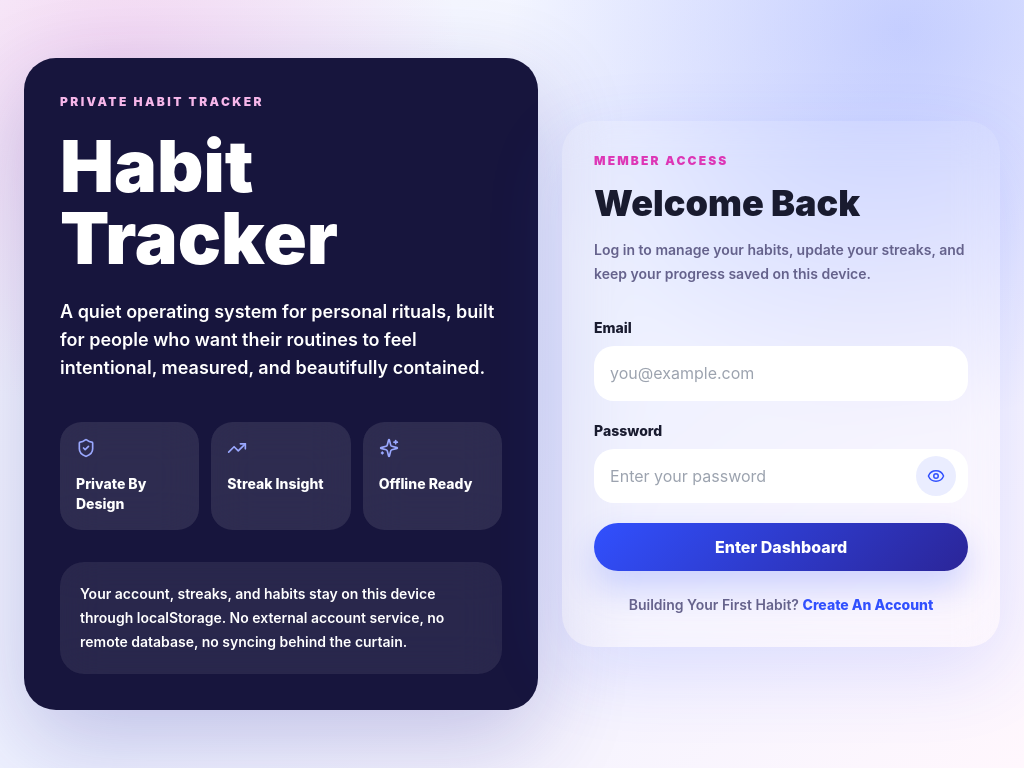
Test: auth flow › shows an error for invalid login credentials
The image size is (1024, 768).
In the field with test id "auth-login-email": (781, 373) x1=594 y1=346 x2=968 y2=400, type "person@example.com"
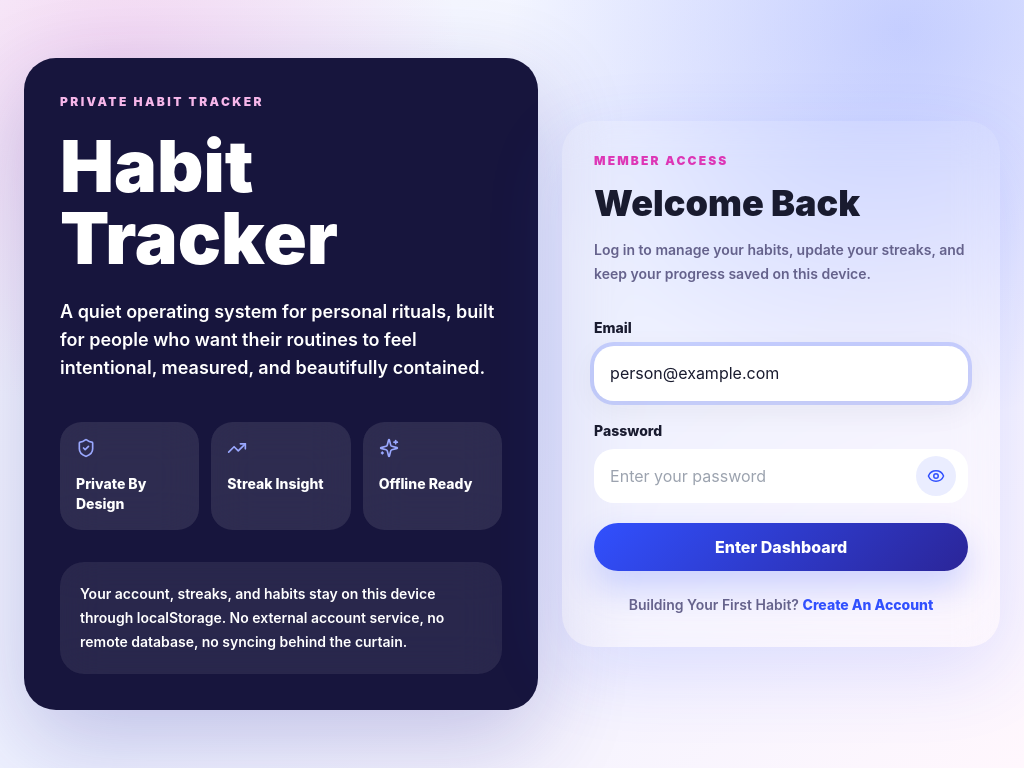
In the password field with test id "auth-login-password": (781, 476) x1=594 y1=448 x2=968 y2=503, type "wrong"
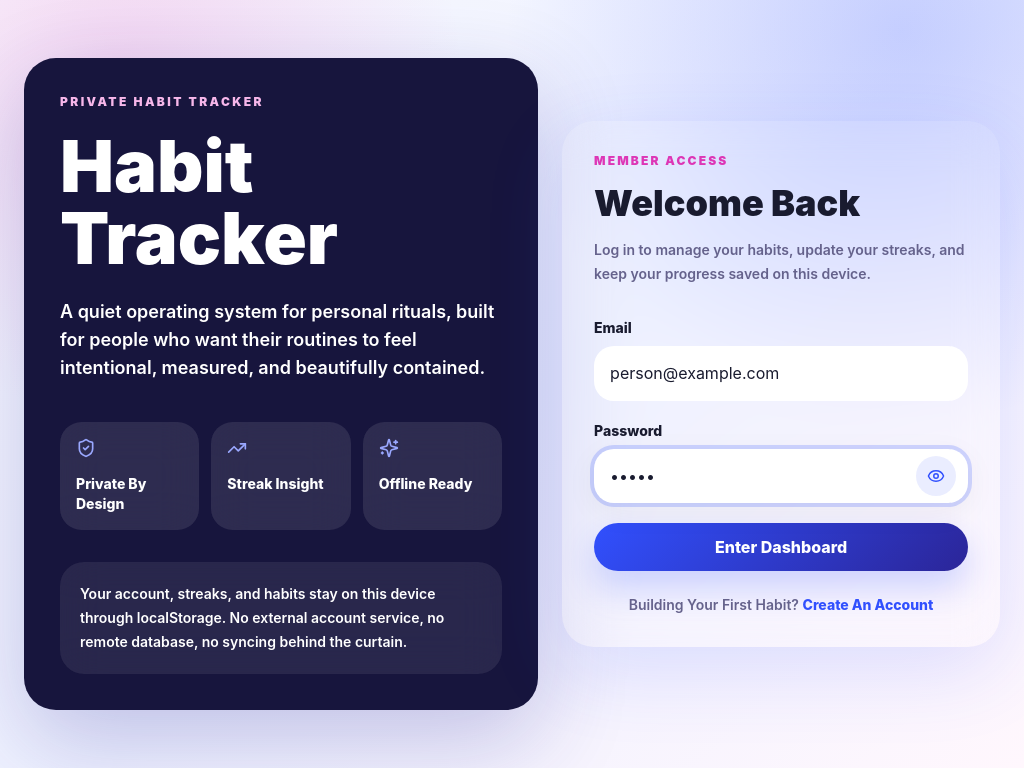
Click the button with test id "auth-login-submit": (781, 547) x1=594 y1=523 x2=968 y2=571
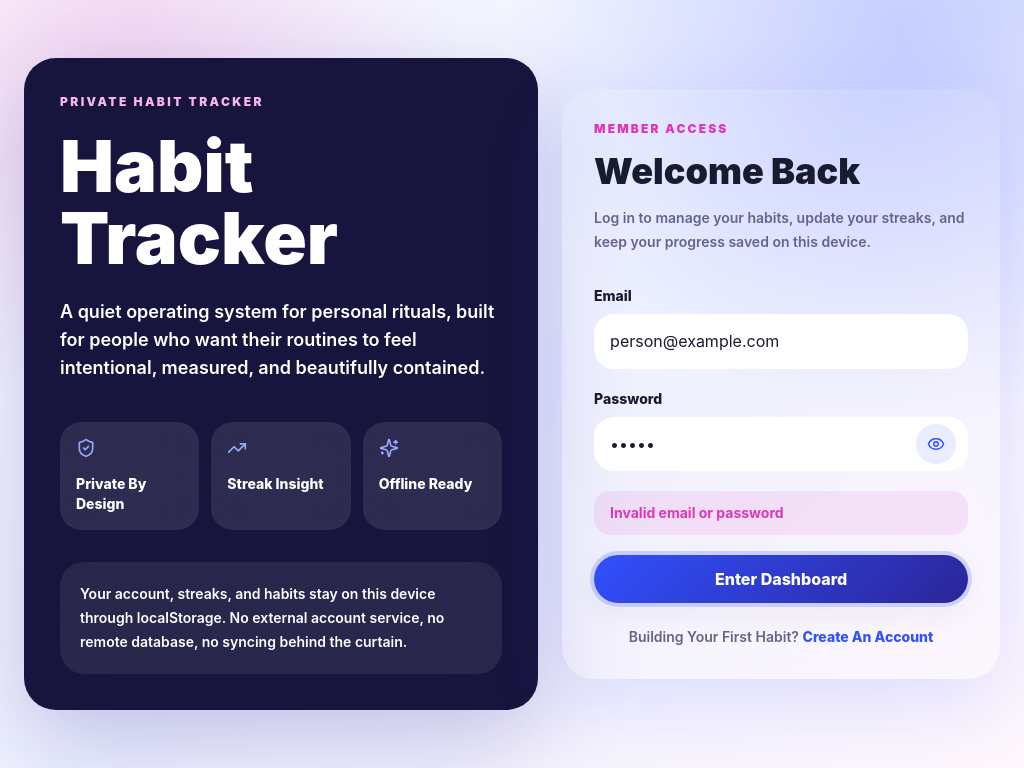
Check: the message reads "Invalid email or password", box x1=610 y1=504 x2=784 y2=521
